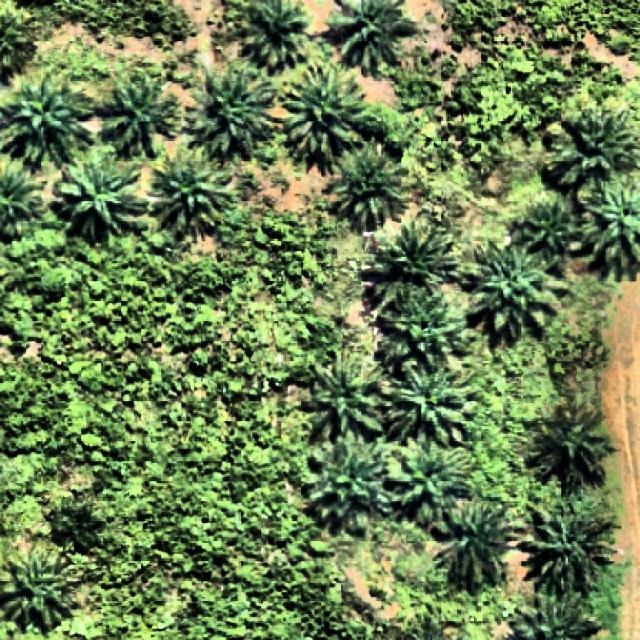Kelapa_Sawit: (458, 236, 572, 344), (358, 216, 464, 324), (281, 60, 374, 176), (541, 96, 640, 203), (520, 493, 618, 598), (302, 430, 395, 539), (184, 66, 281, 166), (528, 394, 620, 498), (2, 70, 96, 170), (384, 436, 478, 535), (56, 153, 150, 250), (301, 344, 390, 446), (388, 359, 478, 452), (440, 492, 516, 596), (329, 140, 406, 236), (102, 67, 185, 156), (515, 194, 580, 258)
